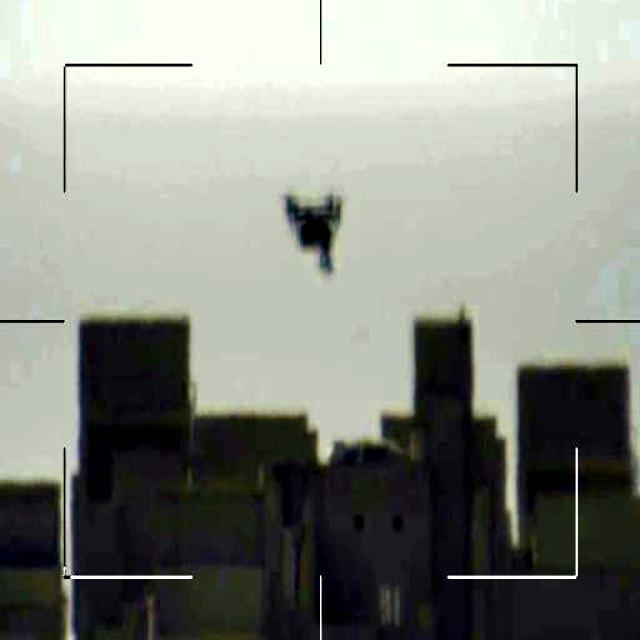bird: (282, 190, 360, 271)
